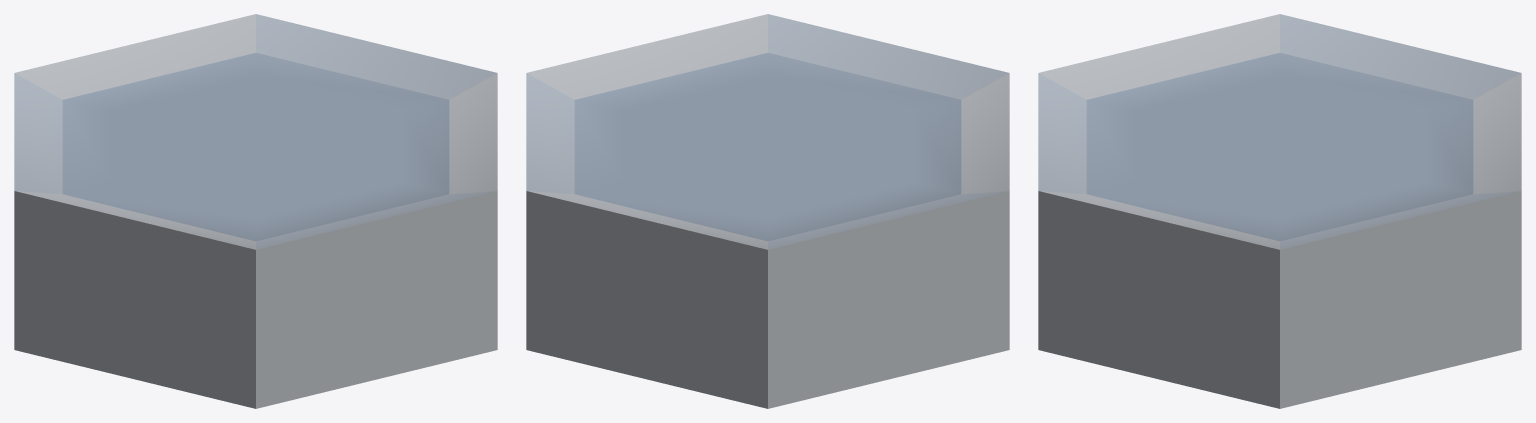
File: waterHex.fbx
3 renders of one model, left to right at view 1: azimuth 30°, elevation 25°; view 2: azimuth 150°, elevation 25°; view 3: azimuth 270°, elevation 25°, orthographic.
Visible parts, largest first — view 1: pCylinder1; view 2: pCylinder1; view 3: pCylinder1.
Part boxes in pixels (bbox=[...]): pCylinder1: bbox=[14, 14, 497, 408]; pCylinder1: bbox=[526, 14, 1009, 408]; pCylinder1: bbox=[1038, 14, 1521, 408].
Size of the model in its own units: 2 by 0.6289 by 1.73.
